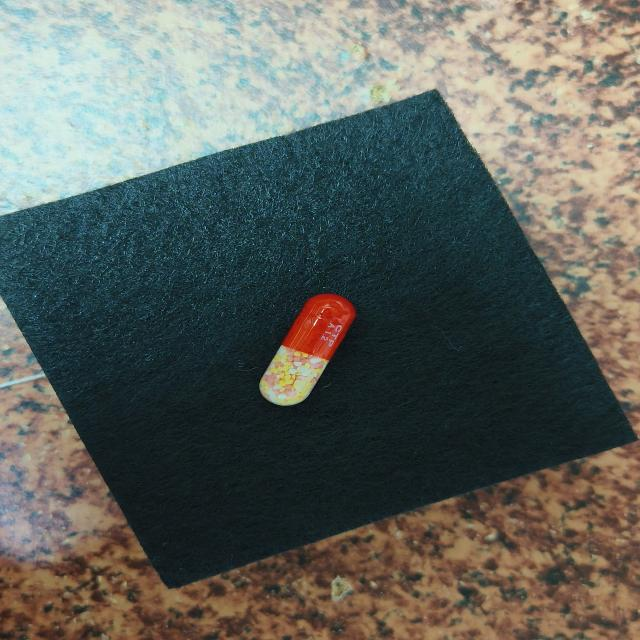Intact Capsule: (259, 293, 356, 406)
